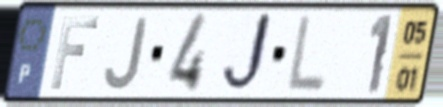1: (366, 11, 396, 98)
4: (164, 9, 210, 98)
F: (47, 15, 102, 92)
J: (218, 9, 277, 98), (102, 15, 151, 93)
L: (282, 11, 330, 96)
